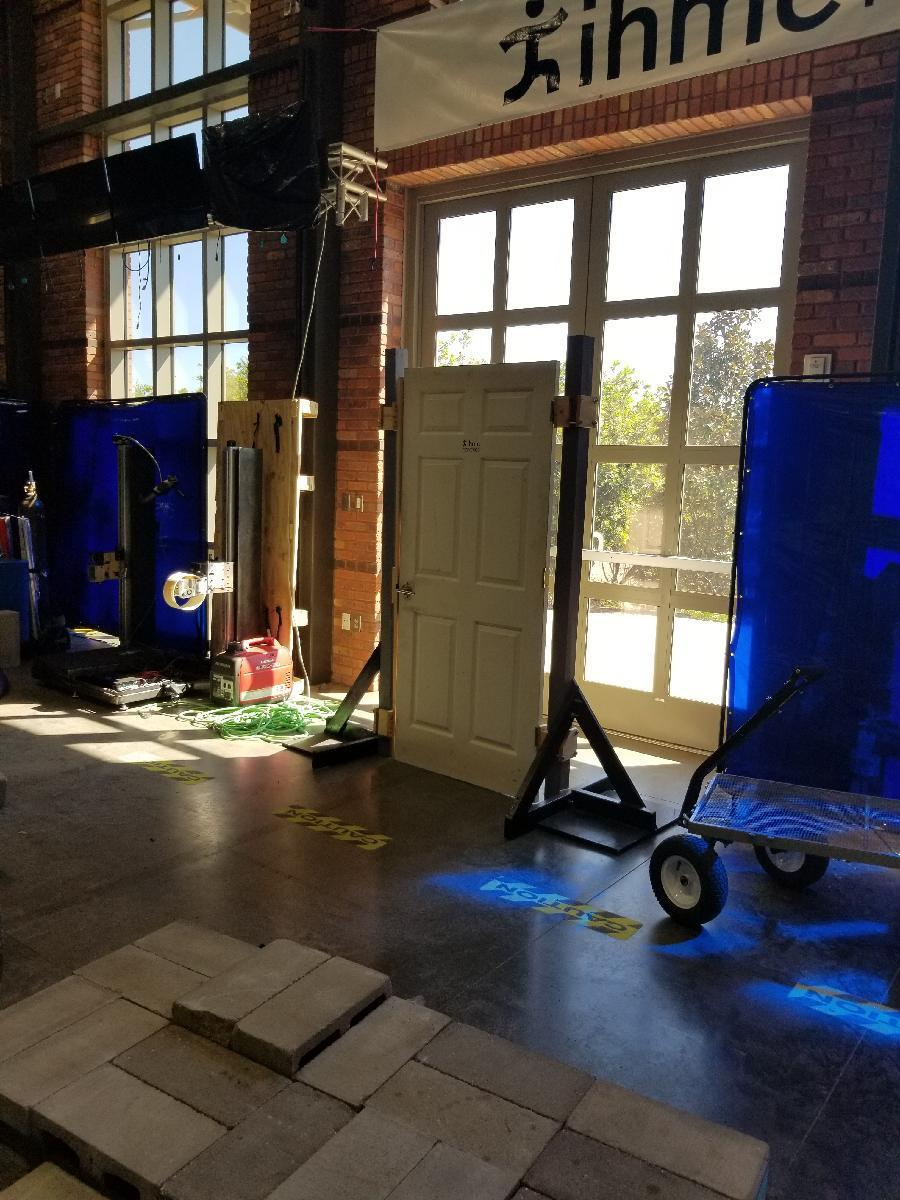door: (398, 363, 554, 809)
handle: (397, 582, 418, 600)
